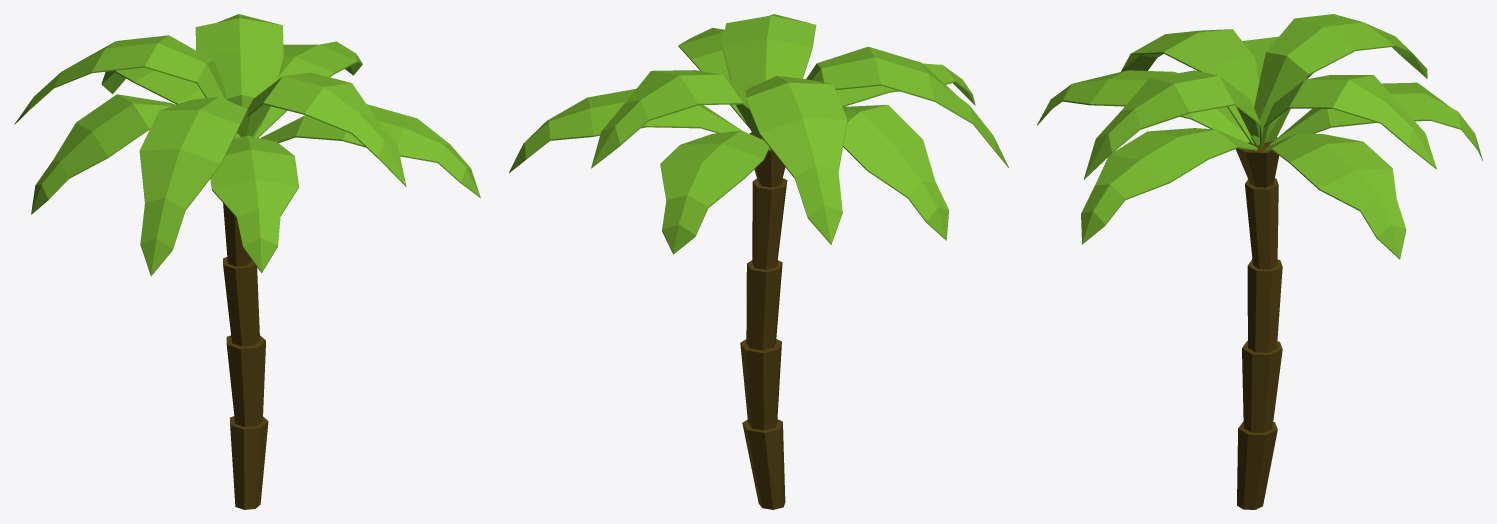
The model's file is Palm Tree.gltf.
3 renders of one model, left to right at view 1: azimuth 30°, elevation 25°; view 2: azimuth 150°, elevation 25°; view 3: azimuth 270°, elevation 25°, orthographic. The views are drawn at different scales.
Parts seen in each view (by area): view 1: Palm_Tree_M; view 2: Palm_Tree_M; view 3: Palm_Tree_M.
Part boxes in pixels (x1,y1,x2,y2): Palm_Tree_M: (14, 14, 480, 509); Palm_Tree_M: (509, 14, 1008, 509); Palm_Tree_M: (1037, 14, 1482, 509).
Bounding box in the file's own units: 3.49 × 4 × 3.57.
